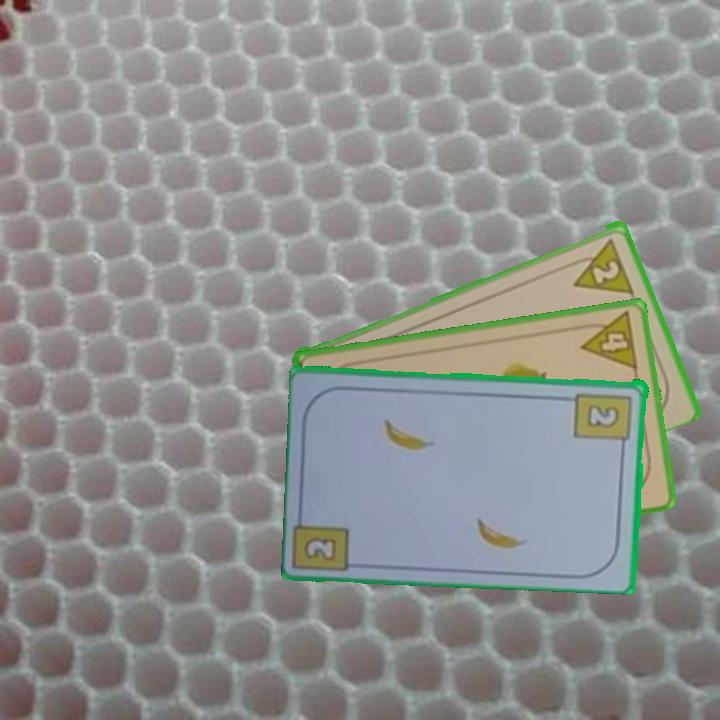2b: (572, 388, 635, 452), (304, 535, 337, 560)
2p: (564, 234, 636, 296)
4p: (575, 308, 641, 373)
